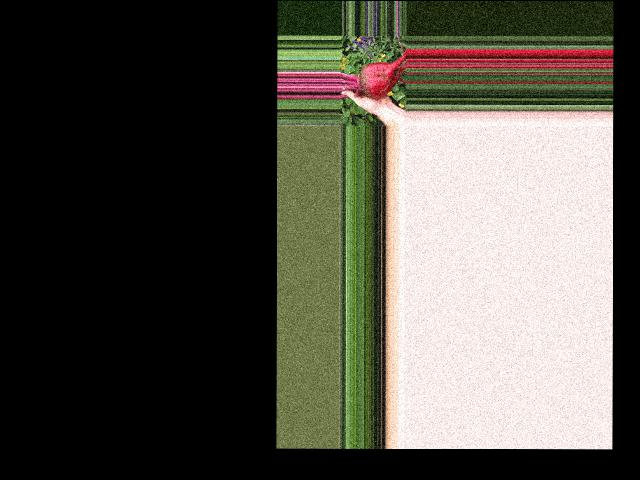beet: (340, 49, 407, 98)
